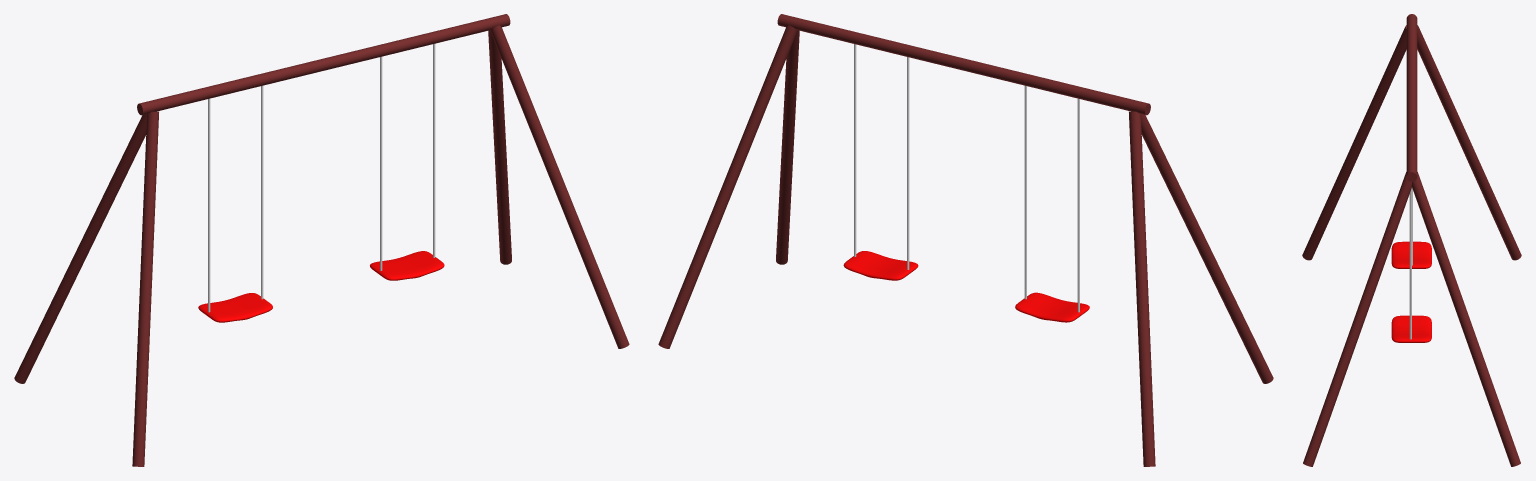
File: 3_slide.fbx
3 renders of one model, left to right at view 1: azimuth 30°, elevation 25°; view 2: azimuth 150°, elevation 25°; view 3: azimuth 270°, elevation 25°, orthographic. The views are drawn at different scales.
Parts seen in each view (by area): view 1: Symmetry Null_Object1 Cylinder12, HyperNURBS2 Cube26, HyperNURBS1 Cube25, Cylinder3, Cylinder4, Cylinder1, Cylinder2; view 2: Symmetry Null_Object1 Cylinder12, HyperNURBS2 Cube26, HyperNURBS1 Cube25, Cylinder1, Cylinder2, Cylinder3, Cylinder4; view 3: Symmetry Null_Object1 Cylinder12, HyperNURBS1 Cube25, HyperNURBS2 Cube26, Cylinder3.
Boxes of the visible parts, left/top/right/bottom form: Symmetry Null_Object1 Cylinder12: left=14, top=14, right=629, bottom=466; HyperNURBS2 Cube26: left=198, top=293, right=272, bottom=322; HyperNURBS1 Cube25: left=370, top=251, right=444, bottom=280; Cylinder3: left=433, top=43, right=435, bottom=257; Cylinder4: left=380, top=56, right=382, bottom=270; Cylinder1: left=261, top=85, right=263, bottom=299; Cylinder2: left=208, top=98, right=210, bottom=312; Symmetry Null_Object1 Cylinder12: left=658, top=14, right=1273, bottom=466; HyperNURBS2 Cube26: left=1015, top=292, right=1089, bottom=322; HyperNURBS1 Cube25: left=843, top=251, right=918, bottom=280; Cylinder1: left=1024, top=85, right=1026, bottom=299; Cylinder2: left=1077, top=98, right=1079, bottom=312; Cylinder3: left=854, top=44, right=856, bottom=256; Cylinder4: left=907, top=57, right=909, bottom=269; Symmetry Null_Object1 Cylinder12: left=1302, top=14, right=1521, bottom=466; HyperNURBS1 Cube25: left=1391, top=315, right=1431, bottom=342; HyperNURBS2 Cube26: left=1391, top=241, right=1431, bottom=268; Cylinder3: left=1409, top=188, right=1411, bottom=339.
Size of the model in its own units: 243 by 105 by 144.
